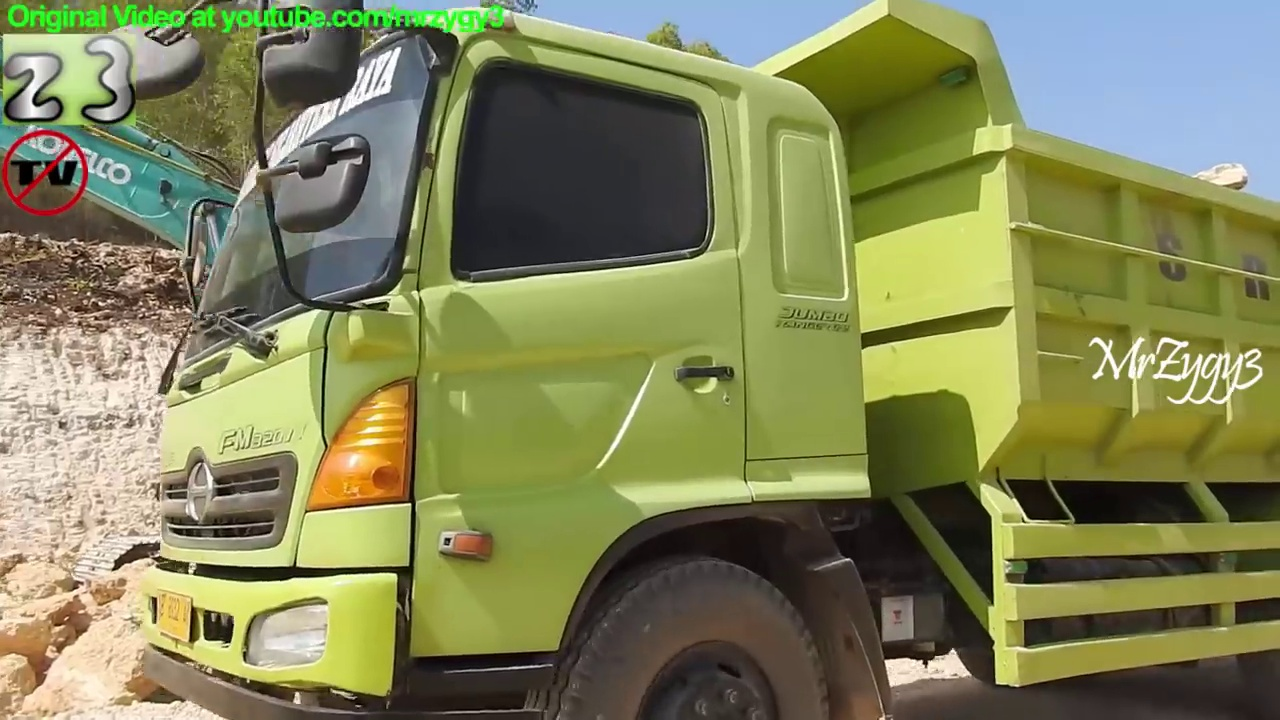truck: (131, 1, 1280, 720)
